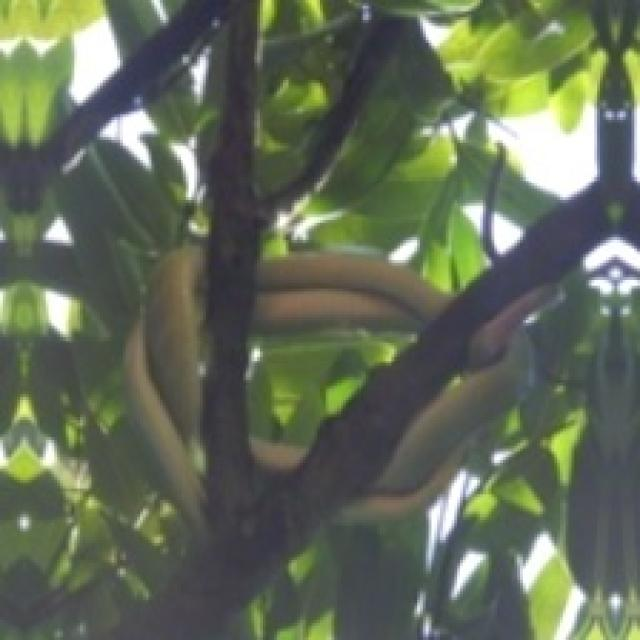red-tailed green ratsnake: (251, 254, 449, 466), (371, 311, 529, 491), (126, 246, 203, 523)
